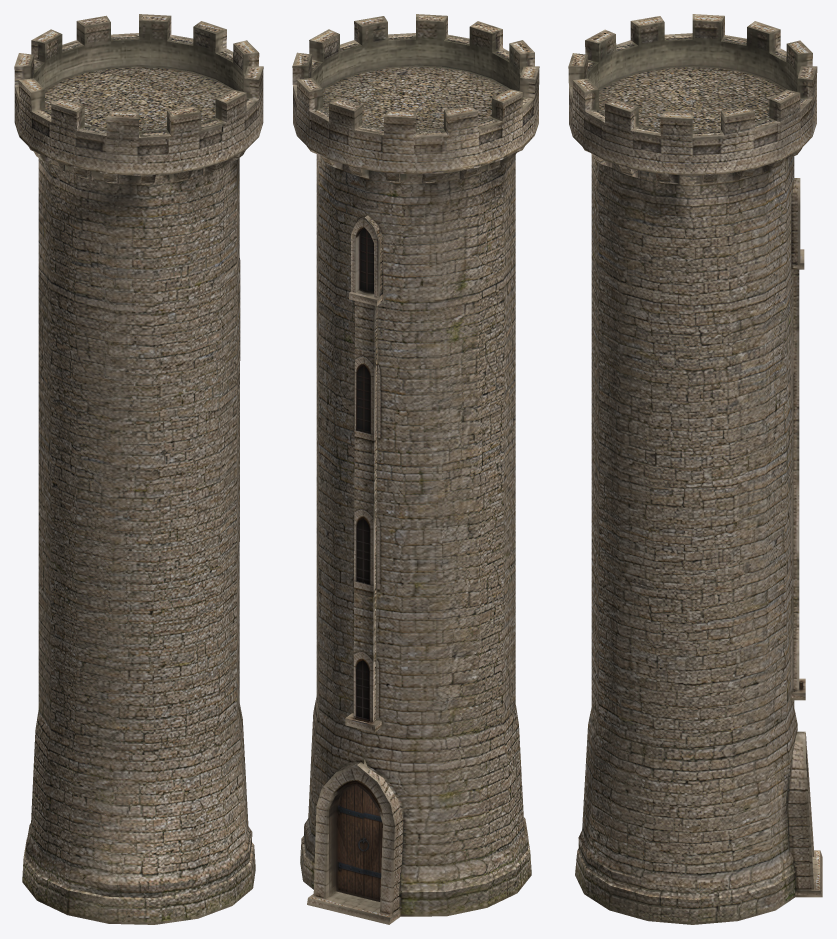
The model's file is tower.glb.
3 renders of one model, left to right at view 1: azimuth 30°, elevation 25°; view 2: azimuth 150°, elevation 25°; view 3: azimuth 270°, elevation 25°, orthographic.
Parts seen in each view (by area): view 1: tower; view 2: tower; view 3: tower.
Part boxes in pixels (x1,y1,x2,y2): tower: (14, 14, 263, 924); tower: (292, 14, 539, 924); tower: (568, 14, 822, 924).
Bounding box in the file's own units: 7.48 × 26.81 × 7.64.
Materials: 1 (1 with a texture image).
